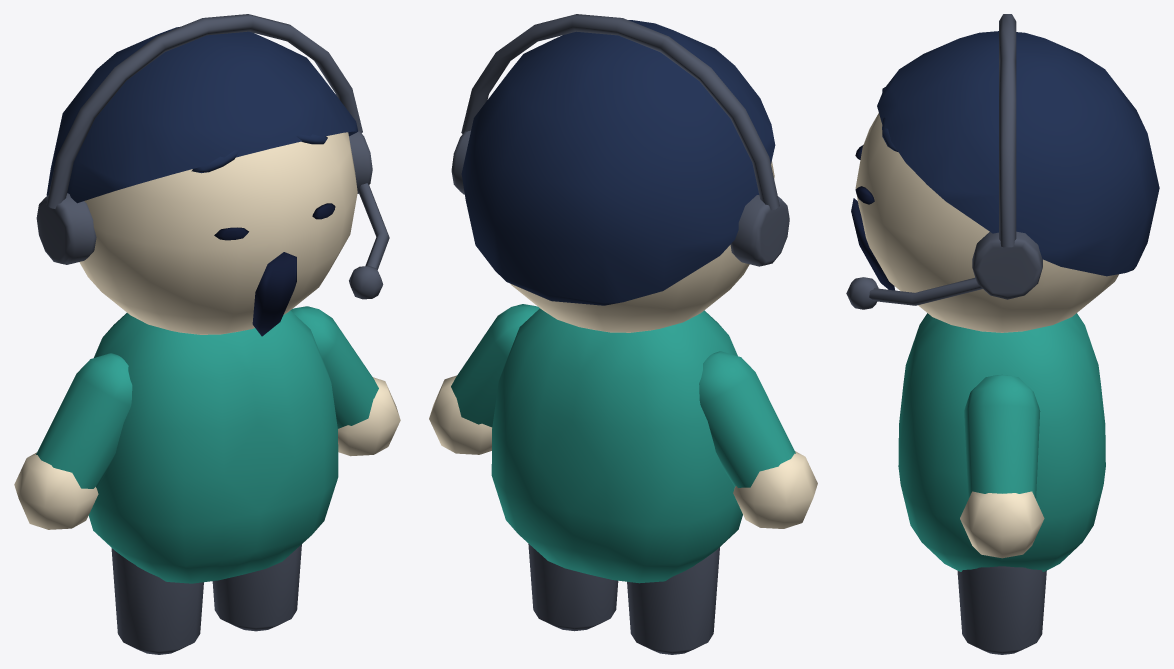
File: Crew_Controller_A.glb
The picture shows the model from 3 angles, left to right: view 1: azimuth 30°, elevation 25°; view 2: azimuth 150°, elevation 25°; view 3: azimuth 270°, elevation 25°; orthographic projection. The views are drawn at different scales.
Visible parts, largest first — view 1: Crew_Controller_A.Head, Crew_Controller_A.Torso, Crew_Controller_A.Arm_R, Crew_Controller_A.Legs, Crew_Controller_A.Arm_L, Crew_Controller_A.Face; view 2: Crew_Controller_A.Head, Crew_Controller_A.Torso, Crew_Controller_A.Arm_R, Crew_Controller_A.Legs, Crew_Controller_A.Arm_L; view 3: Crew_Controller_A.Head, Crew_Controller_A.Torso, Crew_Controller_A.Arm_L, Crew_Controller_A.Legs, Crew_Controller_A.Face.
Part boxes in pixels (left/top/right/bottom): Crew_Controller_A.Head: left=36, top=14, right=389, bottom=334; Crew_Controller_A.Torso: left=88, top=310, right=338, bottom=583; Crew_Controller_A.Arm_R: left=14, top=353, right=132, bottom=529; Crew_Controller_A.Legs: left=111, top=544, right=301, bottom=654; Crew_Controller_A.Arm_L: left=290, top=306, right=400, bottom=456; Crew_Controller_A.Face: left=191, top=134, right=335, bottom=336; Crew_Controller_A.Head: left=451, top=14, right=789, bottom=332; Crew_Controller_A.Torso: left=491, top=308, right=742, bottom=583; Crew_Controller_A.Arm_R: left=699, top=351, right=817, bottom=528; Crew_Controller_A.Legs: left=528, top=543, right=719, bottom=654; Crew_Controller_A.Arm_L: left=429, top=304, right=539, bottom=454; Crew_Controller_A.Head: left=846, top=14, right=1159, bottom=332; Crew_Controller_A.Torso: left=898, top=313, right=1105, bottom=571; Crew_Controller_A.Arm_L: left=960, top=374, right=1044, bottom=558; Crew_Controller_A.Legs: left=957, top=566, right=1046, bottom=654; Crew_Controller_A.Face: left=851, top=87, right=897, bottom=290.
Bounding box in the file's own units: 0.7797 × 1.21 × 0.577.
1 material, 1 textured.
